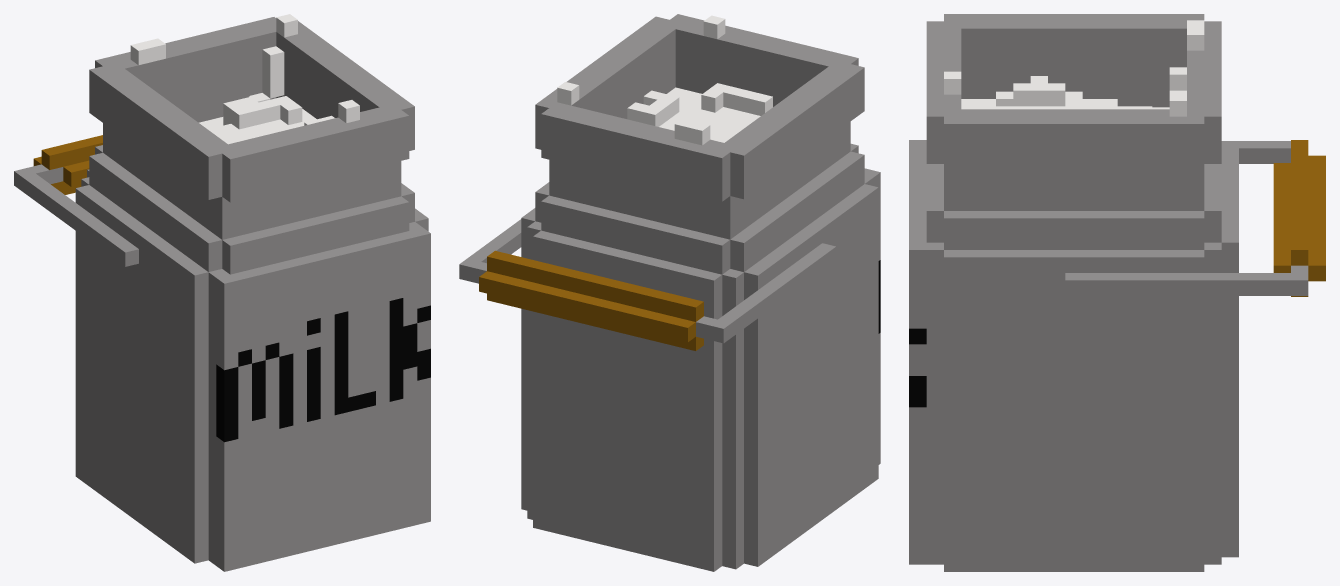
File: milk.gltf
3 renders of one model, left to right at view 1: azimuth 30°, elevation 25°; view 2: azimuth 150°, elevation 25°; view 3: azimuth 270°, elevation 25°, orthographic. The views are drawn at different scales.
Parts seen in each view (by area): view 1: Layer.1, milk; view 2: Layer.1, milk; view 3: Layer.1, milk.
Part boxes in pixels (bbox=[...]): Layer.1: bbox=[14, 17, 430, 571]; milk: bbox=[130, 14, 359, 144]; Layer.1: bbox=[459, 14, 880, 571]; milk: bbox=[557, 15, 772, 145]; Layer.1: bbox=[909, 14, 1325, 571]; milk: bbox=[944, 20, 1204, 116].
Size of the model in its own units: 19 by 29 by 24.
Materials: 1 (1 with a texture image).
